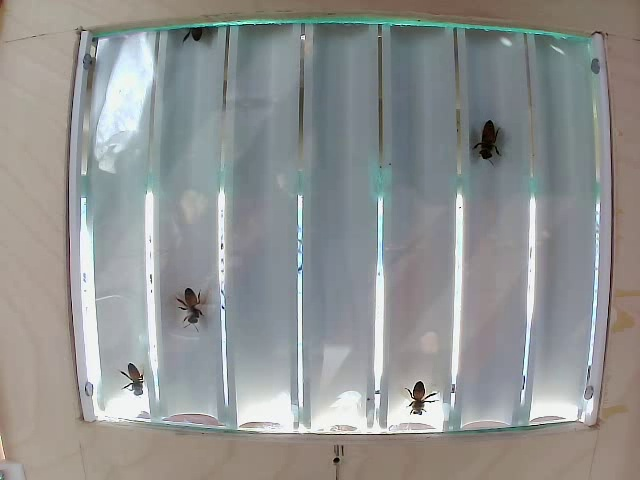bee: (174, 289, 217, 330), (473, 121, 507, 172), (111, 358, 156, 391), (405, 380, 431, 415)
